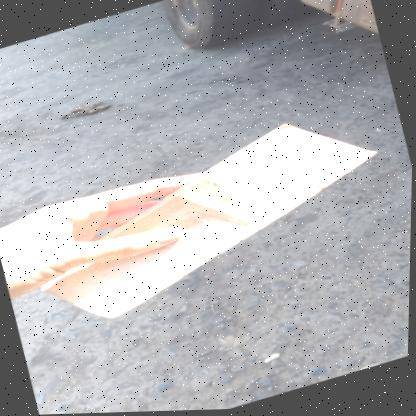five-back-vef: (16, 101, 401, 336)
